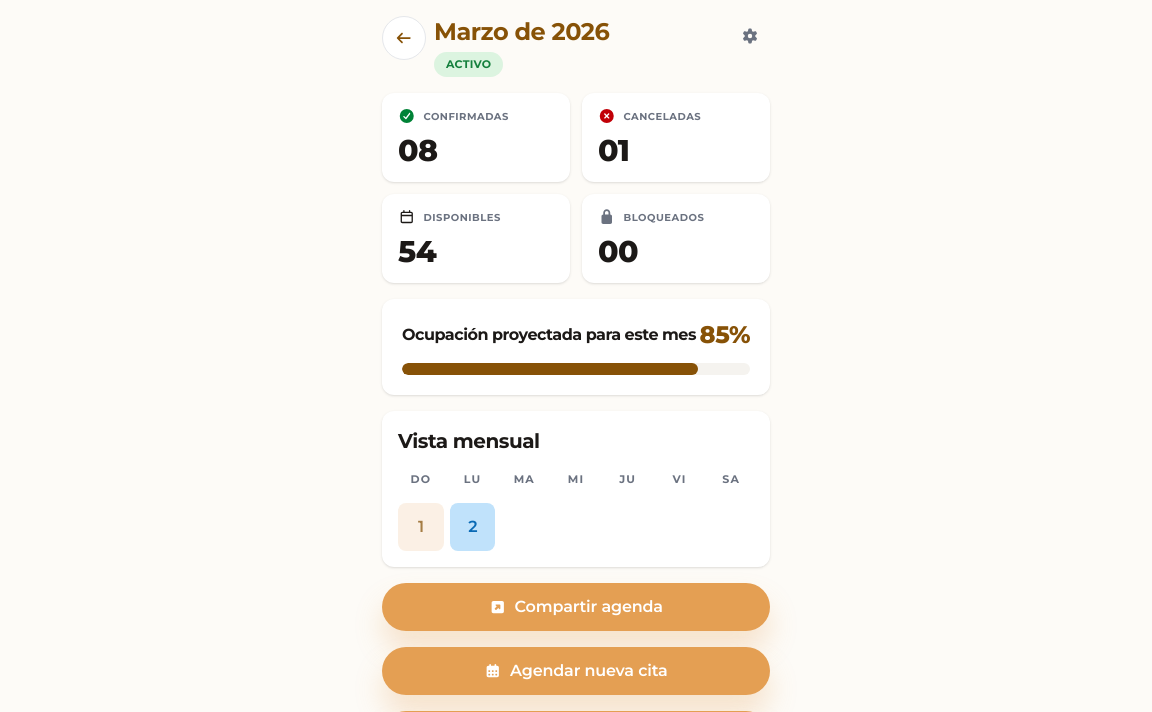
Test: MonthDetailView › shows daily action CTAs when selected day is eligible
Step 1. Click the button named "Detalles del" → (473,527), box [450,503,495,551]
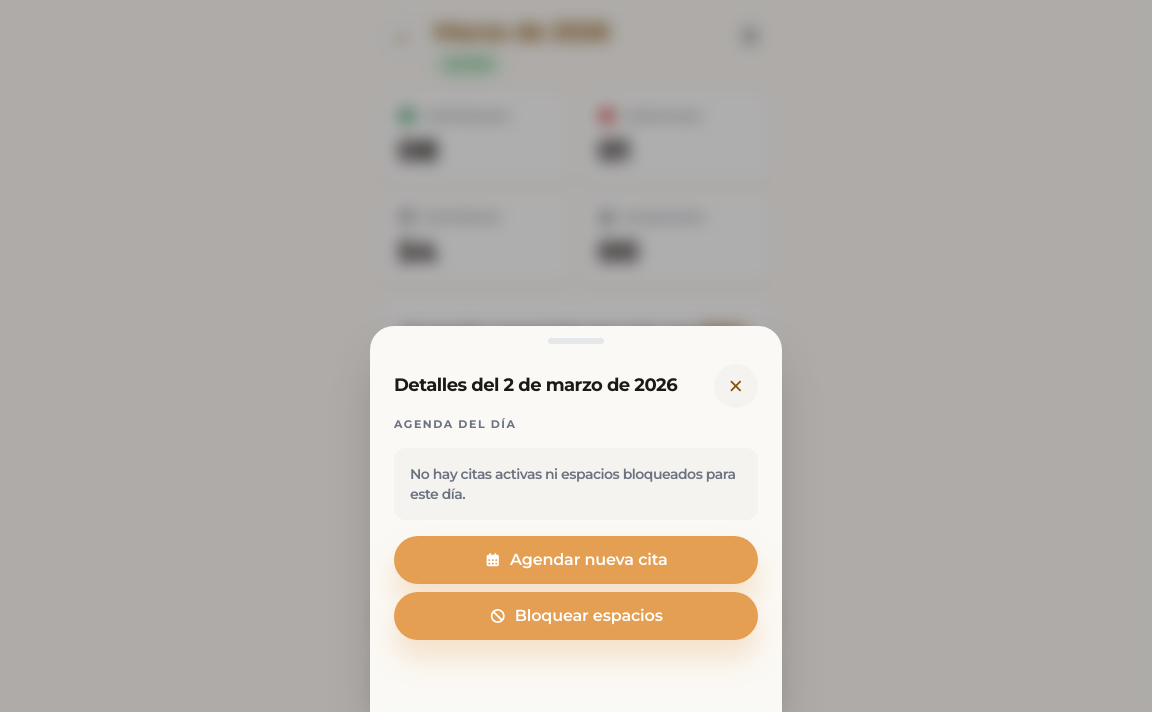
Expected: the button "Agendar nueva cita" below "Agenda del día" is shown, [394,536,758,584]
Expected: the button "Bloquear espacios" below "Agenda del día" is shown, [394,592,758,640]
